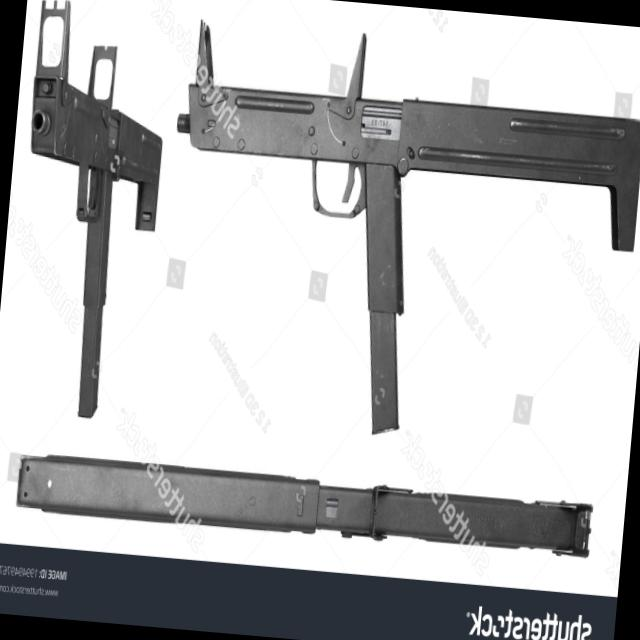Weapon: (146, 8, 640, 478), (0, 0, 174, 432)
